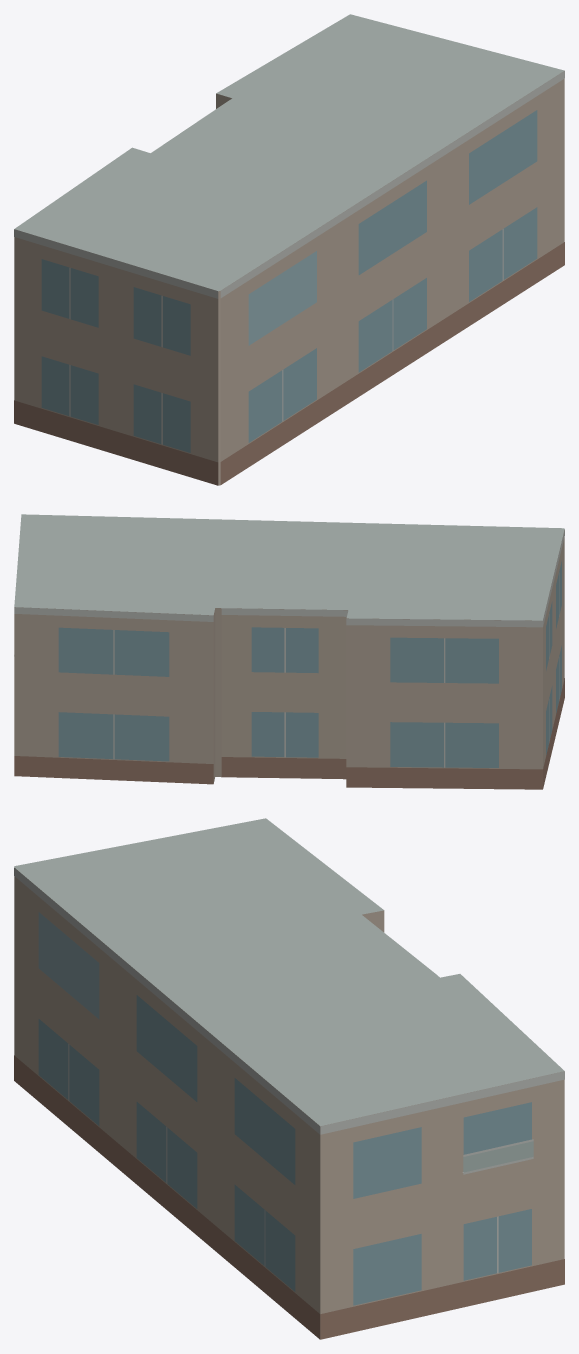
Rendered from survey-upis-32706721.glb.
The picture shows the model from 3 angles, top to bottom: view 1: azimuth 30°, elevation 25°; view 2: azimuth 150°, elevation 25°; view 3: azimuth 270°, elevation 25°; orthographic projection. The views are drawn at different scales.
Parts seen in each view (by area): view 1: survey-upis-32706721.tmp; view 2: survey-upis-32706721.tmp; view 3: survey-upis-32706721.tmp.
Part boxes in pixels (x1,y1,x2,y2): survey-upis-32706721.tmp: (14, 14, 564, 485); survey-upis-32706721.tmp: (14, 514, 564, 789); survey-upis-32706721.tmp: (14, 818, 564, 1339).
Size of the model in its own units: 18.89 by 6.1 by 14.27.
